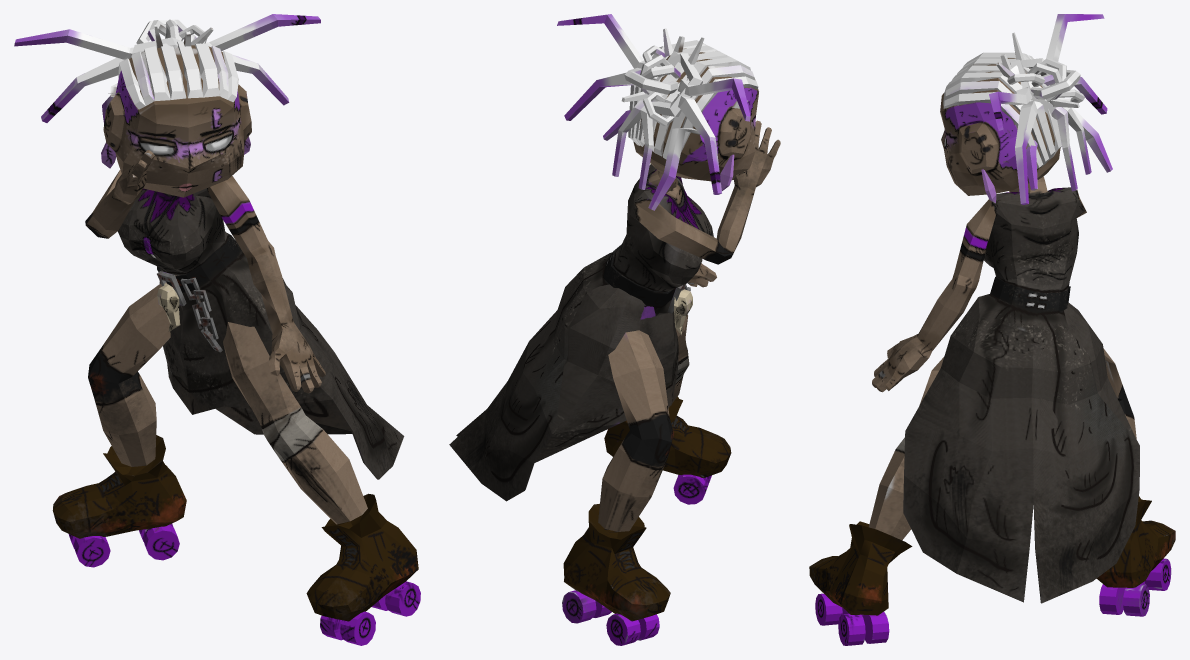
The model's file is bruja_000003.obj.
3 renders of one model, left to right at view 1: azimuth 30°, elevation 25°; view 2: azimuth 150°, elevation 25°; view 3: azimuth 270°, elevation 25°, orthographic. The views are drawn at different scales.
Visible parts, largest first — view 1: Bruja_Plane.001; view 2: Bruja_Plane.001; view 3: Bruja_Plane.001.
Part boxes in pixels (x1,y1,x2,y2): Bruja_Plane.001: (14, 14, 420, 645); Bruja_Plane.001: (449, 14, 780, 645); Bruja_Plane.001: (809, 14, 1175, 645).
Bounding box in the file's own units: 9.68 × 15.49 × 9.26.
